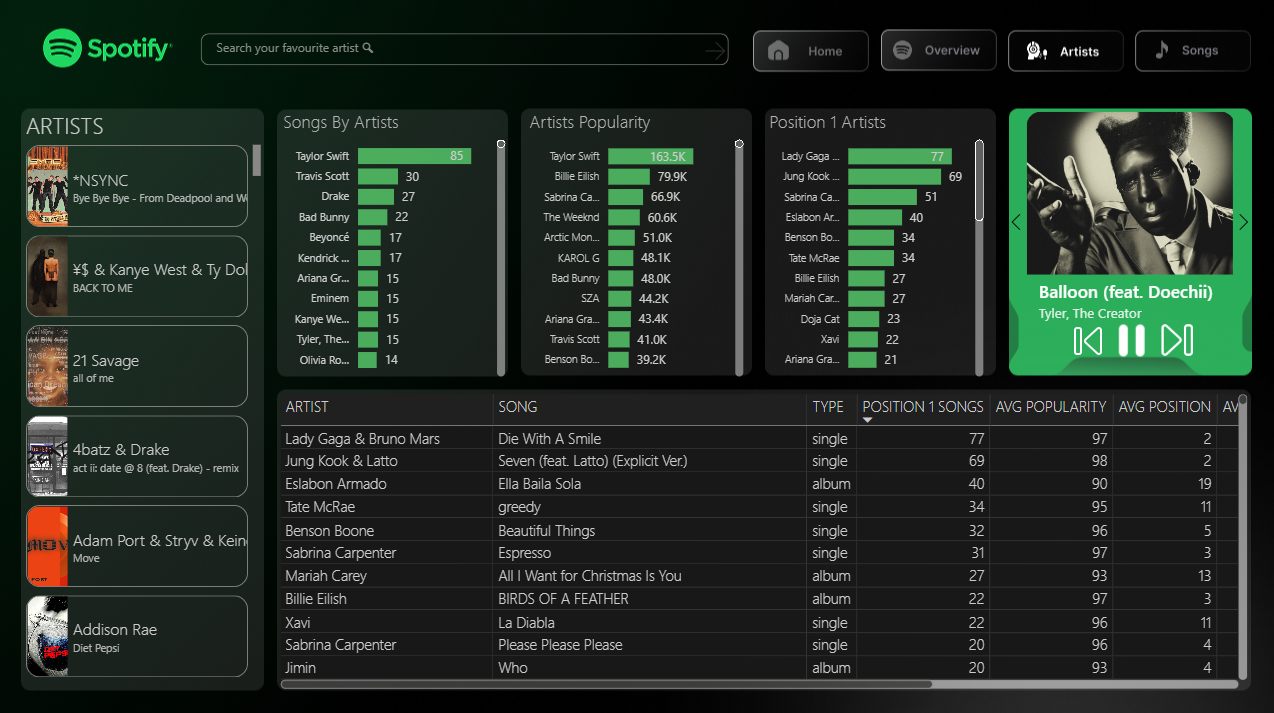

Layout of this report page (visuals, bound fields, positions):
{"tool":"powerbi","page":{"name":"Artists","canvas":[1280,720],"ordinal":2},"visuals":[{"type":"advancedSlicerVisual","title":"Songs & Artists","fields":{"Values":["Top-50-world.song"]},"box":[1008.9,114.3,248.5,223.2],"z":0},{"type":"image","box":[1155,325,51,36],"z":1000},{"type":"image","box":[1075,320,32,48],"z":2000},{"type":"image","box":[1119,327,32,32],"z":3000},{"type":"clusteredBarChart","title":"Songs By Artists","fields":{"Category":["Top-50-world.artist"],"Y":["_Measures.Distinct Songs"]},"box":[281,112,232,272],"z":4000},{"type":"clusteredBarChart","title":"Artists Popularity","fields":{"Y":["Sum(Top-50-world.popularity)"],"Category":["Top-50-world.artist"]},"box":[528,112,224,272],"z":5000},{"type":"clusteredBarChart","title":"Position 1 Artists","fields":{"Y":["_Measures.Position1 Hits per Artist"],"Category":["Top-50-world.artist"]},"box":[768,112,224,272],"z":6000},{"type":"advancedSlicerVisual","title":"ARTISTS","fields":{"Values":["Top-50-world.artist"]},"box":[24,112,243,576],"z":7000},{"type":"shape","box":[204,36,528,32],"z":8000},{"type":"textSlicer","fields":{"Values":["Top-50-world.artist"]},"box":[208,35,528,32],"z":9000},{"type":"tableEx","fields":{"Values":["Top-50-world.artist","Top-50-world.song","Top-50-world.album_type","_Measures.Position 1 Songs","_Measures.Avg Popularity","_Measures.Avg Position","_Measures.Avg Duration Minutes","_Measures.Songs per Artist","_Measures.Avg Tracks per Album"]},"box":[278,393,978,304],"z":10000},{"type":"actionButton","box":[1013,33,111,39],"z":11000},{"type":"actionButton","box":[1140,33,113,39],"z":12000},{"type":"actionButton","box":[758,32,114,42],"z":13000},{"type":"actionButton","box":[885,31,117,42],"z":14000}]}

Visuals, with their boxes in screenshot pixels (x1, y1, x2, y2), scaled from the page's 1280x720 canvas onto the 1274x713 screenshot:
"Songs & Artists" advancedSlicerVisual: detection(1004, 113, 1252, 334)
image: detection(1150, 322, 1200, 357)
image: detection(1070, 317, 1102, 364)
image: detection(1114, 324, 1146, 356)
"Songs By Artists" clusteredBarChart: detection(280, 111, 511, 380)
"Artists Popularity" clusteredBarChart: detection(526, 111, 748, 380)
"Position 1 Artists" clusteredBarChart: detection(764, 111, 987, 380)
"ARTISTS" advancedSlicerVisual: detection(24, 111, 266, 681)
shape: detection(203, 36, 729, 67)
textSlicer - Top-50-world.artist: detection(207, 35, 733, 66)
tableEx - Top-50-world.artist x Top-50-world.song: detection(277, 389, 1250, 690)
actionButton: detection(1008, 33, 1119, 71)
actionButton: detection(1135, 33, 1247, 71)
actionButton: detection(754, 32, 868, 73)
actionButton: detection(881, 31, 997, 72)
